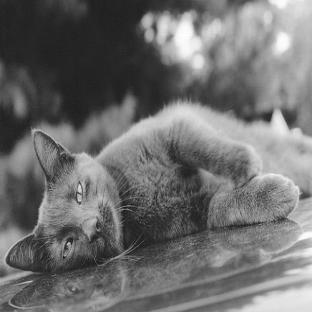Animal: (6, 100, 311, 272)
